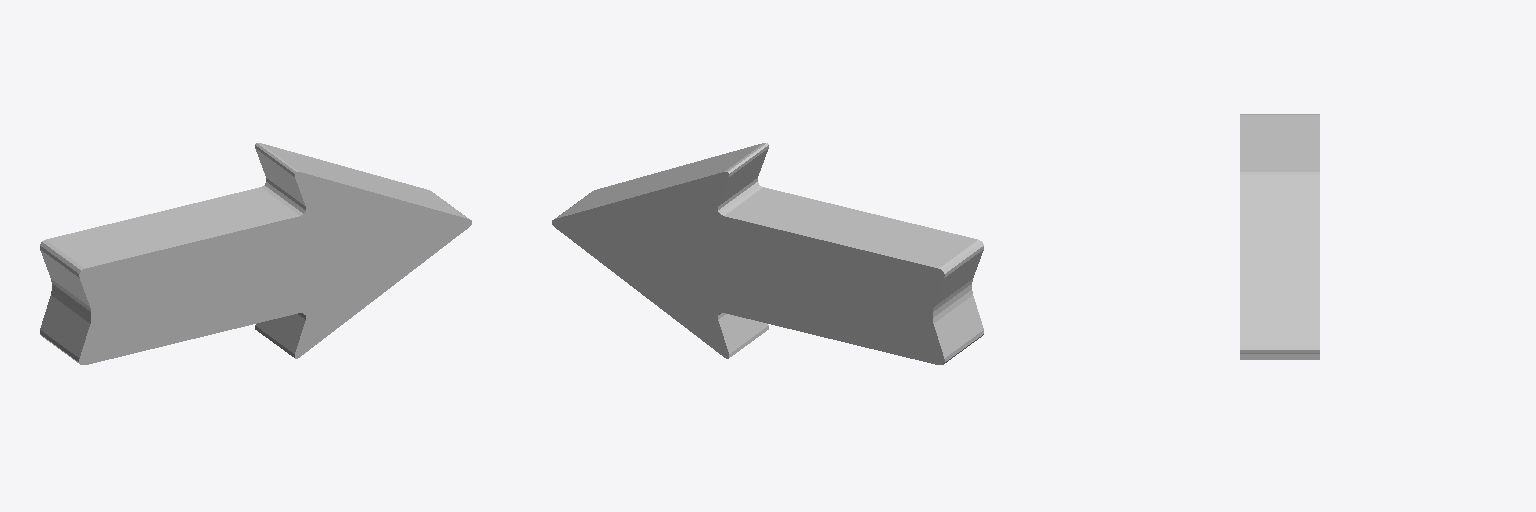
File: Arrow_76.obj
3 views of the same model, side by side, from view 1: azimuth 30°, elevation 25°; view 2: azimuth 150°, elevation 25°; view 3: azimuth 270°, elevation 25° (orthographic).
Parts seen in each view (by area): view 1: Arrow_76; view 2: Arrow_76; view 3: Arrow_76.
Boxes of the visible parts, box(x1,y1,x2,y2) form: Arrow_76: box(40, 143, 471, 364); Arrow_76: box(552, 143, 983, 364); Arrow_76: box(1240, 114, 1319, 359).
Bounding box in the file's own units: 4.25 × 1.94 × 0.7423.